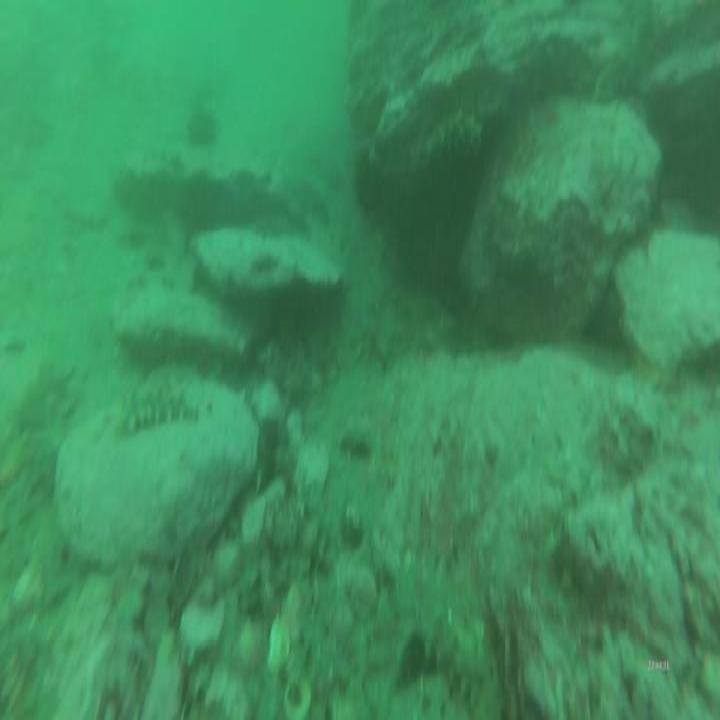echinus: (184, 91, 222, 160)
holothurian: (406, 553, 506, 720), (591, 0, 659, 108), (110, 373, 206, 443), (417, 114, 486, 170)
